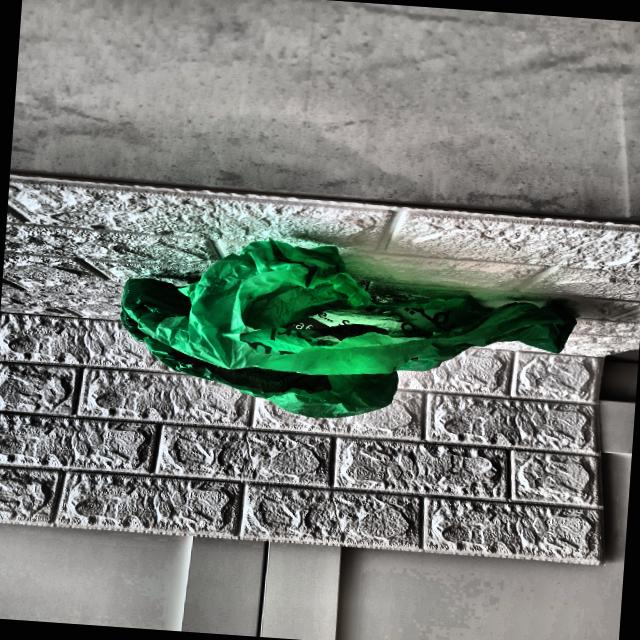plastic bag: (112, 233, 590, 432)
